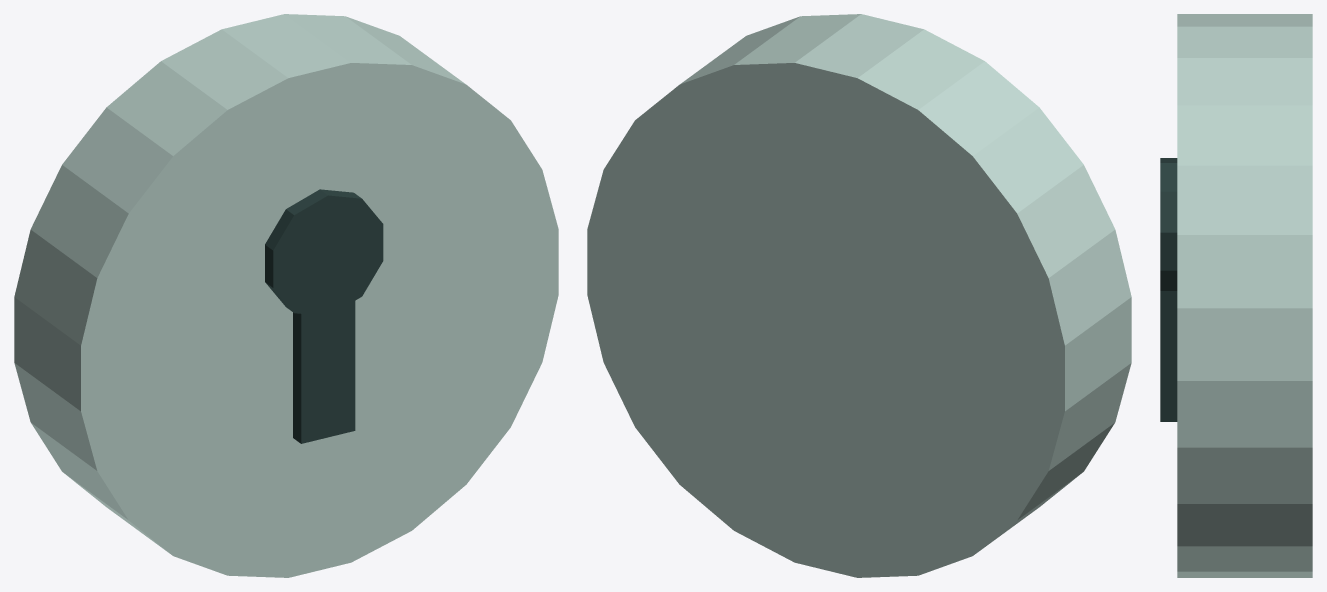
Rendered from LockWall_Emblem.gltf.
The picture shows the model from 3 angles, left to right: view 1: azimuth 30°, elevation 25°; view 2: azimuth 150°, elevation 25°; view 3: azimuth 270°, elevation 25°; orthographic projection.
Parts seen in each view (by area): view 1: LockWall_Emblem_baked; view 2: LockWall_Emblem_baked; view 3: LockWall_Emblem_baked.
Boxes of the visible parts, left/top/right/bottom form: LockWall_Emblem_baked: left=14, top=14, right=558, bottom=577; LockWall_Emblem_baked: left=587, top=14, right=1131, bottom=577; LockWall_Emblem_baked: left=1160, top=14, right=1312, bottom=577.
Size of the model in its own units: 0.4957 by 0.4957 by 0.135.
